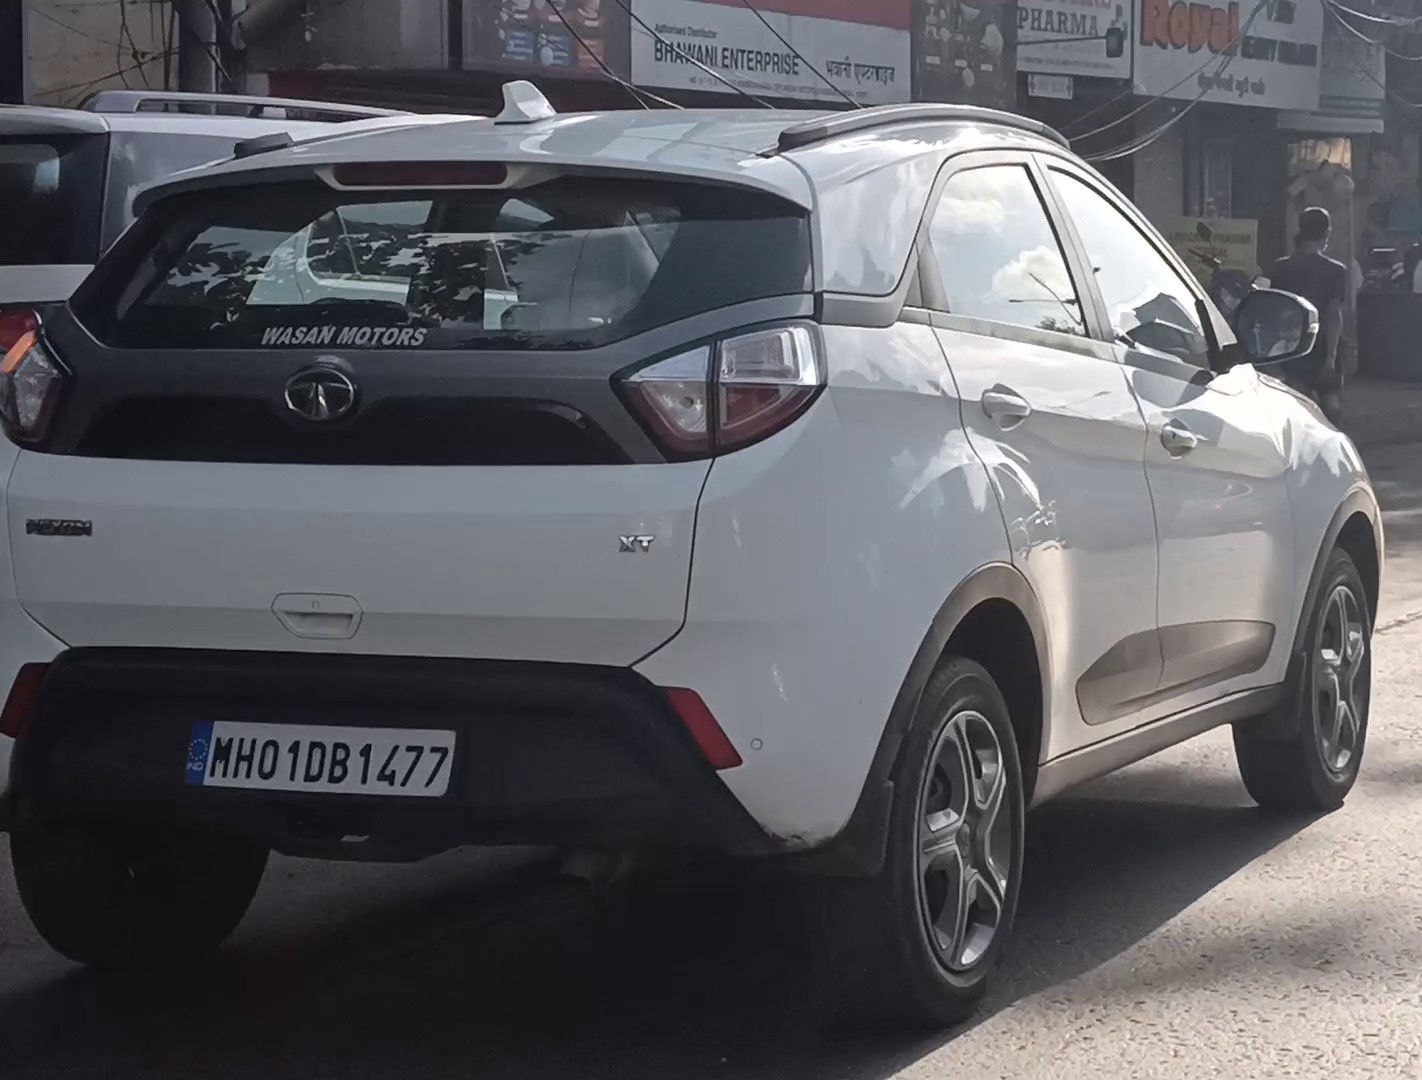MH01DB1477: (182, 716, 457, 795)
